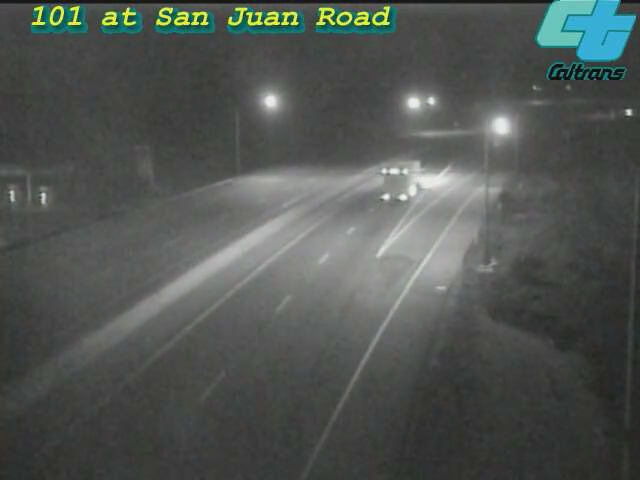vehicle: (362, 143, 442, 223), (472, 101, 522, 151)
